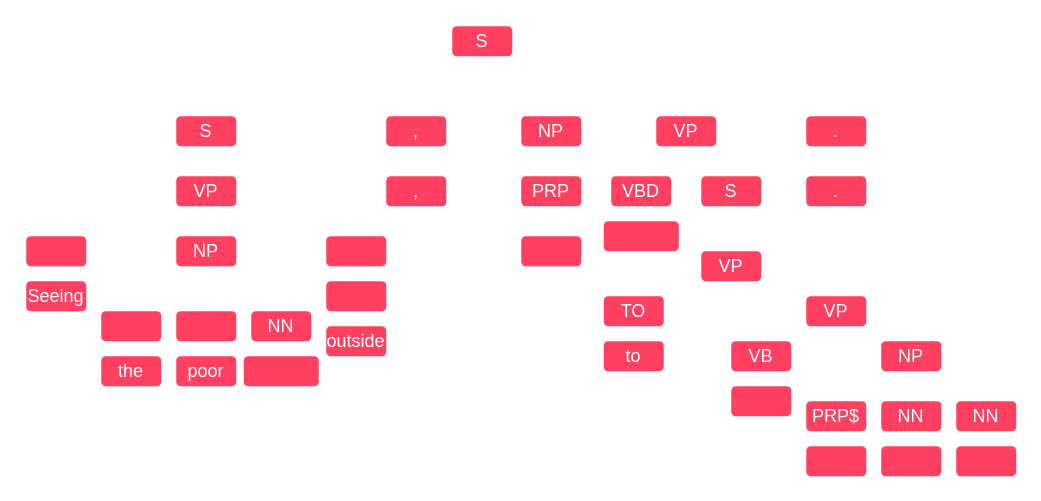
This 1041x501 diagram has some shape labels left out. The centre of each missing label's shape, as x and y in pixels:
"ADVP" belongs at point (356, 251).
"cancel" belongs at point (760, 401).
"decided" belongs at point (640, 235).
"DT" belongs at point (130, 325).
"football" belongs at point (910, 461).
"game" belongs at point (986, 461).
"IN" belongs at point (356, 295).
"JJ" belongs at point (206, 325).
"their" belongs at point (836, 461).
"they" belongs at point (550, 251).
"VBG" belongs at point (56, 251).
"weather" belongs at point (280, 371).
